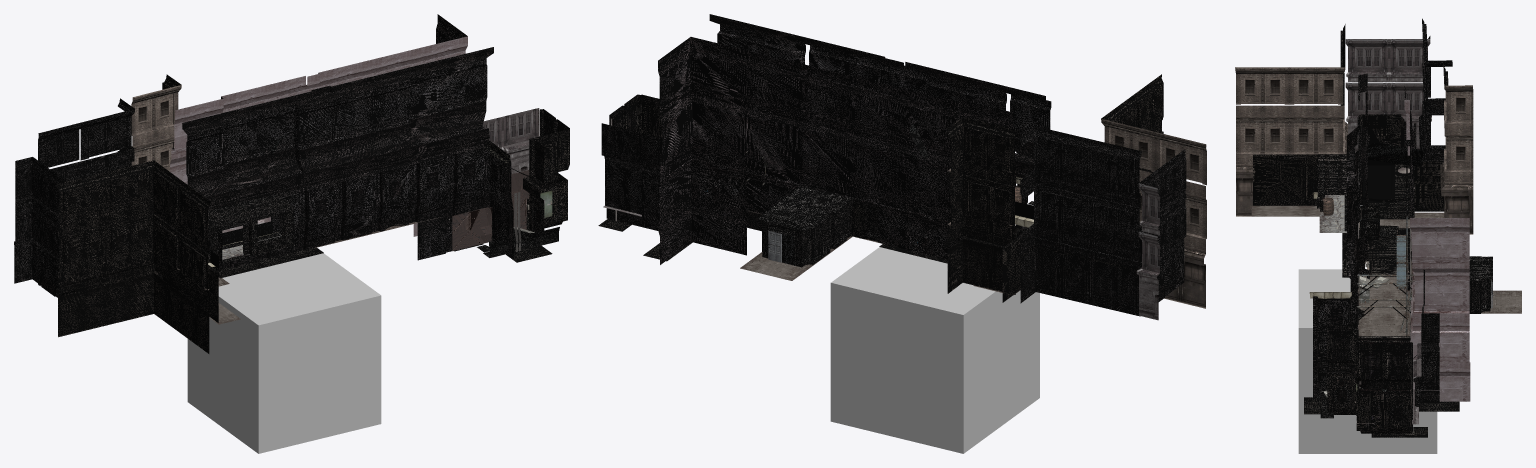
Rendered from alley.obj.
The picture shows the model from 3 angles, left to right: view 1: azimuth 30°, elevation 25°; view 2: azimuth 150°, elevation 25°; view 3: azimuth 270°, elevation 25°; orthographic projection. The views are drawn at different scales.
Visible parts, largest first — view 1: Material2, Cube, Material3.028, Material3.019, Material3.029, Material3.027, Material3.013, Material3.024, Material3.016, Material3.006, Material3.025, Material3.020 (+1 smaller); view 2: Material2, Cube, Material3.029, Material3.027, Material3.028, Material3.019, Material3.009, Material3.006, Material3.026; view 3: Material2, Material3.028, Material3.029, Material3.027, Cube, Material3.006, Material3.010, Material3.022, Material3.021, Material3.019, Material3.020, Material2.001 (+7 smaller).
Part boxes in pixels (x1,y1,x2,y2): Material2: (14, 14, 569, 353); Cube: (187, 253, 381, 453); Material3.028: (56, 77, 212, 350); Material3.019: (183, 47, 493, 210); Material3.029: (170, 16, 467, 236); Material3.027: (14, 101, 539, 295); Material3.013: (217, 148, 489, 269); Material3.024: (38, 170, 529, 294); Material3.016: (208, 195, 294, 262); Material3.006: (209, 217, 552, 324); Material3.025: (479, 168, 558, 257); Material3.020: (530, 109, 569, 178); Material2: (598, 14, 1206, 316); Cube: (830, 247, 1039, 453); Material3.029: (658, 37, 1012, 263); Material3.027: (602, 125, 1186, 320); Material3.028: (944, 75, 1206, 308); Material3.019: (710, 15, 1050, 177); Material3.009: (691, 145, 955, 258); Material3.006: (600, 211, 1020, 295); Material3.026: (610, 118, 877, 266); Material2: (1253, 18, 1492, 437); Material3.028: (1235, 25, 1473, 234); Material3.029: (1404, 90, 1470, 401); Material3.027: (1345, 19, 1452, 424); Cube: (1298, 269, 1437, 453); Material3.006: (1251, 165, 1521, 437); Material3.010: (1253, 114, 1443, 277); Material3.022: (1356, 216, 1414, 336); Material3.021: (1327, 324, 1411, 433); Material3.019: (1347, 74, 1369, 293); Material3.020: (1329, 325, 1411, 378); Material2.001: (1319, 195, 1346, 232).
Size of the model in its own units: 8.51 by 4.9 by 4.13.
33 materials, 32 textured.
